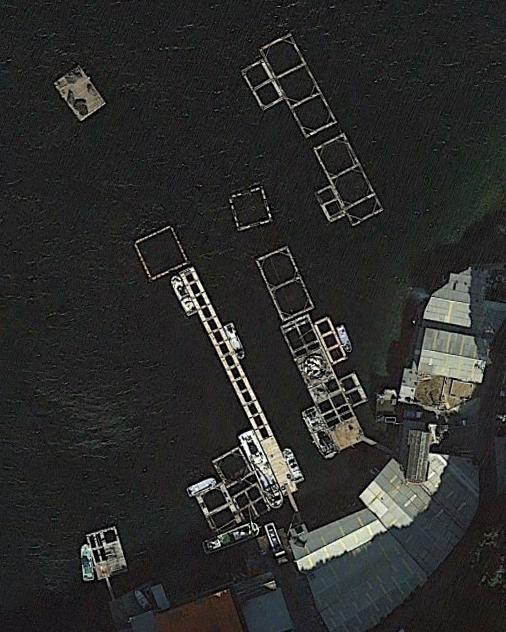house: (286, 509, 427, 626), (364, 457, 468, 569), (423, 258, 493, 326), (417, 322, 490, 382), (395, 368, 479, 414), (398, 418, 440, 487)
platform: (50, 61, 112, 122), (79, 518, 131, 578), (258, 436, 297, 495), (323, 418, 367, 451)
ship: (196, 528, 263, 554), (305, 406, 333, 458), (233, 427, 266, 468), (168, 271, 197, 316), (254, 463, 282, 509), (73, 541, 96, 588), (222, 320, 245, 360), (180, 475, 217, 496), (334, 324, 352, 355)
square: (121, 214, 188, 283), (216, 180, 278, 234)
